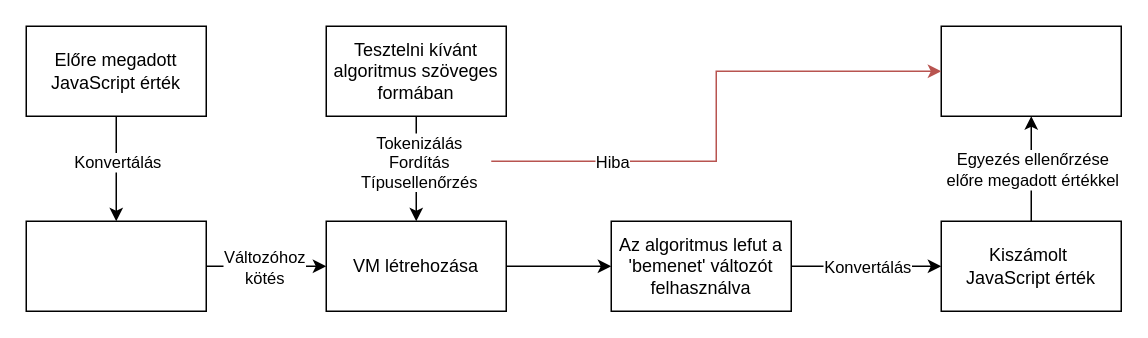
Some shapes in this 1148 by 338 pixel diagram are drawn without their labels. Each missing label, with the centre of its shape:
Pszeudokód érték: [115,265]
Végeredmény: [1030,70]
